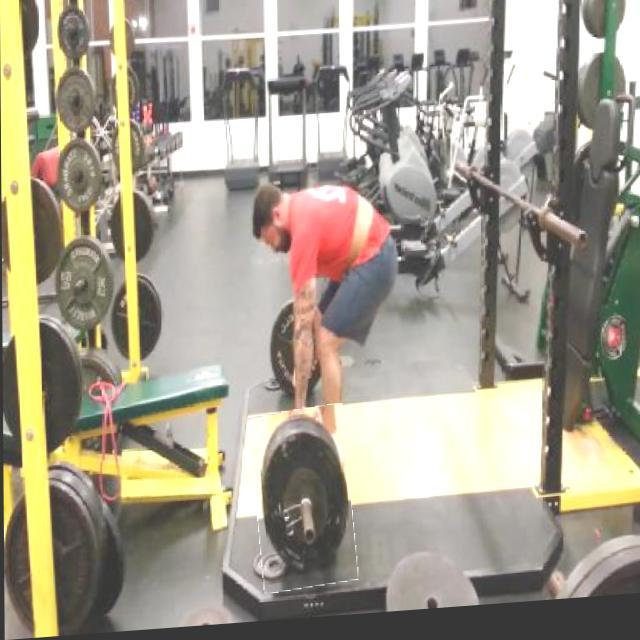barbell: (252, 411, 354, 598)
